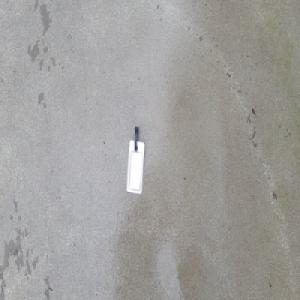LuggageTag: (125, 125, 145, 196)
